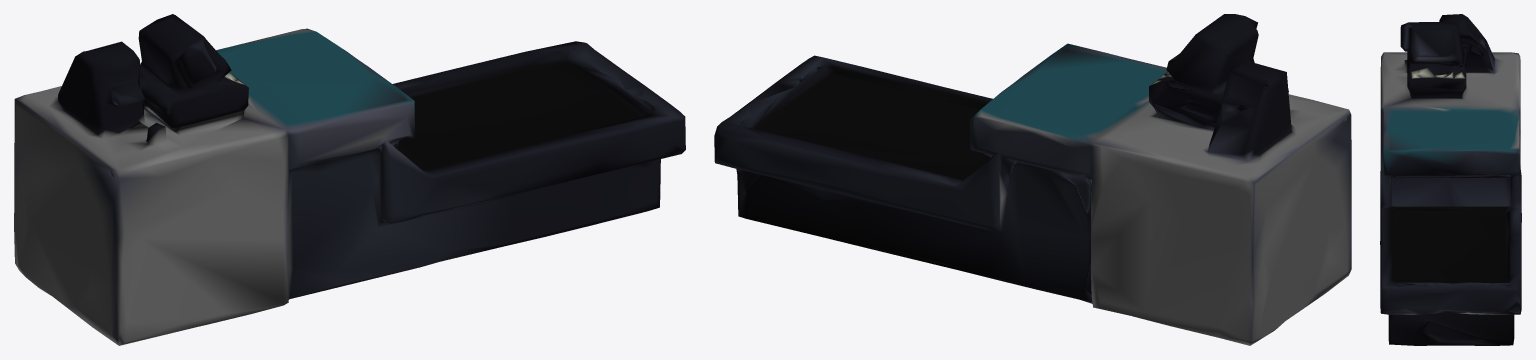
File: gen3d-checkout-counter-lod0.glb
3 views of the same model, side by side, from view 1: azimuth 30°, elevation 25°; view 2: azimuth 150°, elevation 25°; view 3: azimuth 270°, elevation 25° (orthographic). The views are drawn at different scales.
Visible parts, largest first — view 1: part_0; view 2: part_0; view 3: part_0.
Boxes of the visible parts, x1,y1,x2,y2 form: part_0: (14, 14, 685, 345); part_0: (714, 14, 1351, 345); part_0: (1380, 14, 1521, 345).
Size of the model in its own units: 2.23 by 0.9972 by 0.723.
